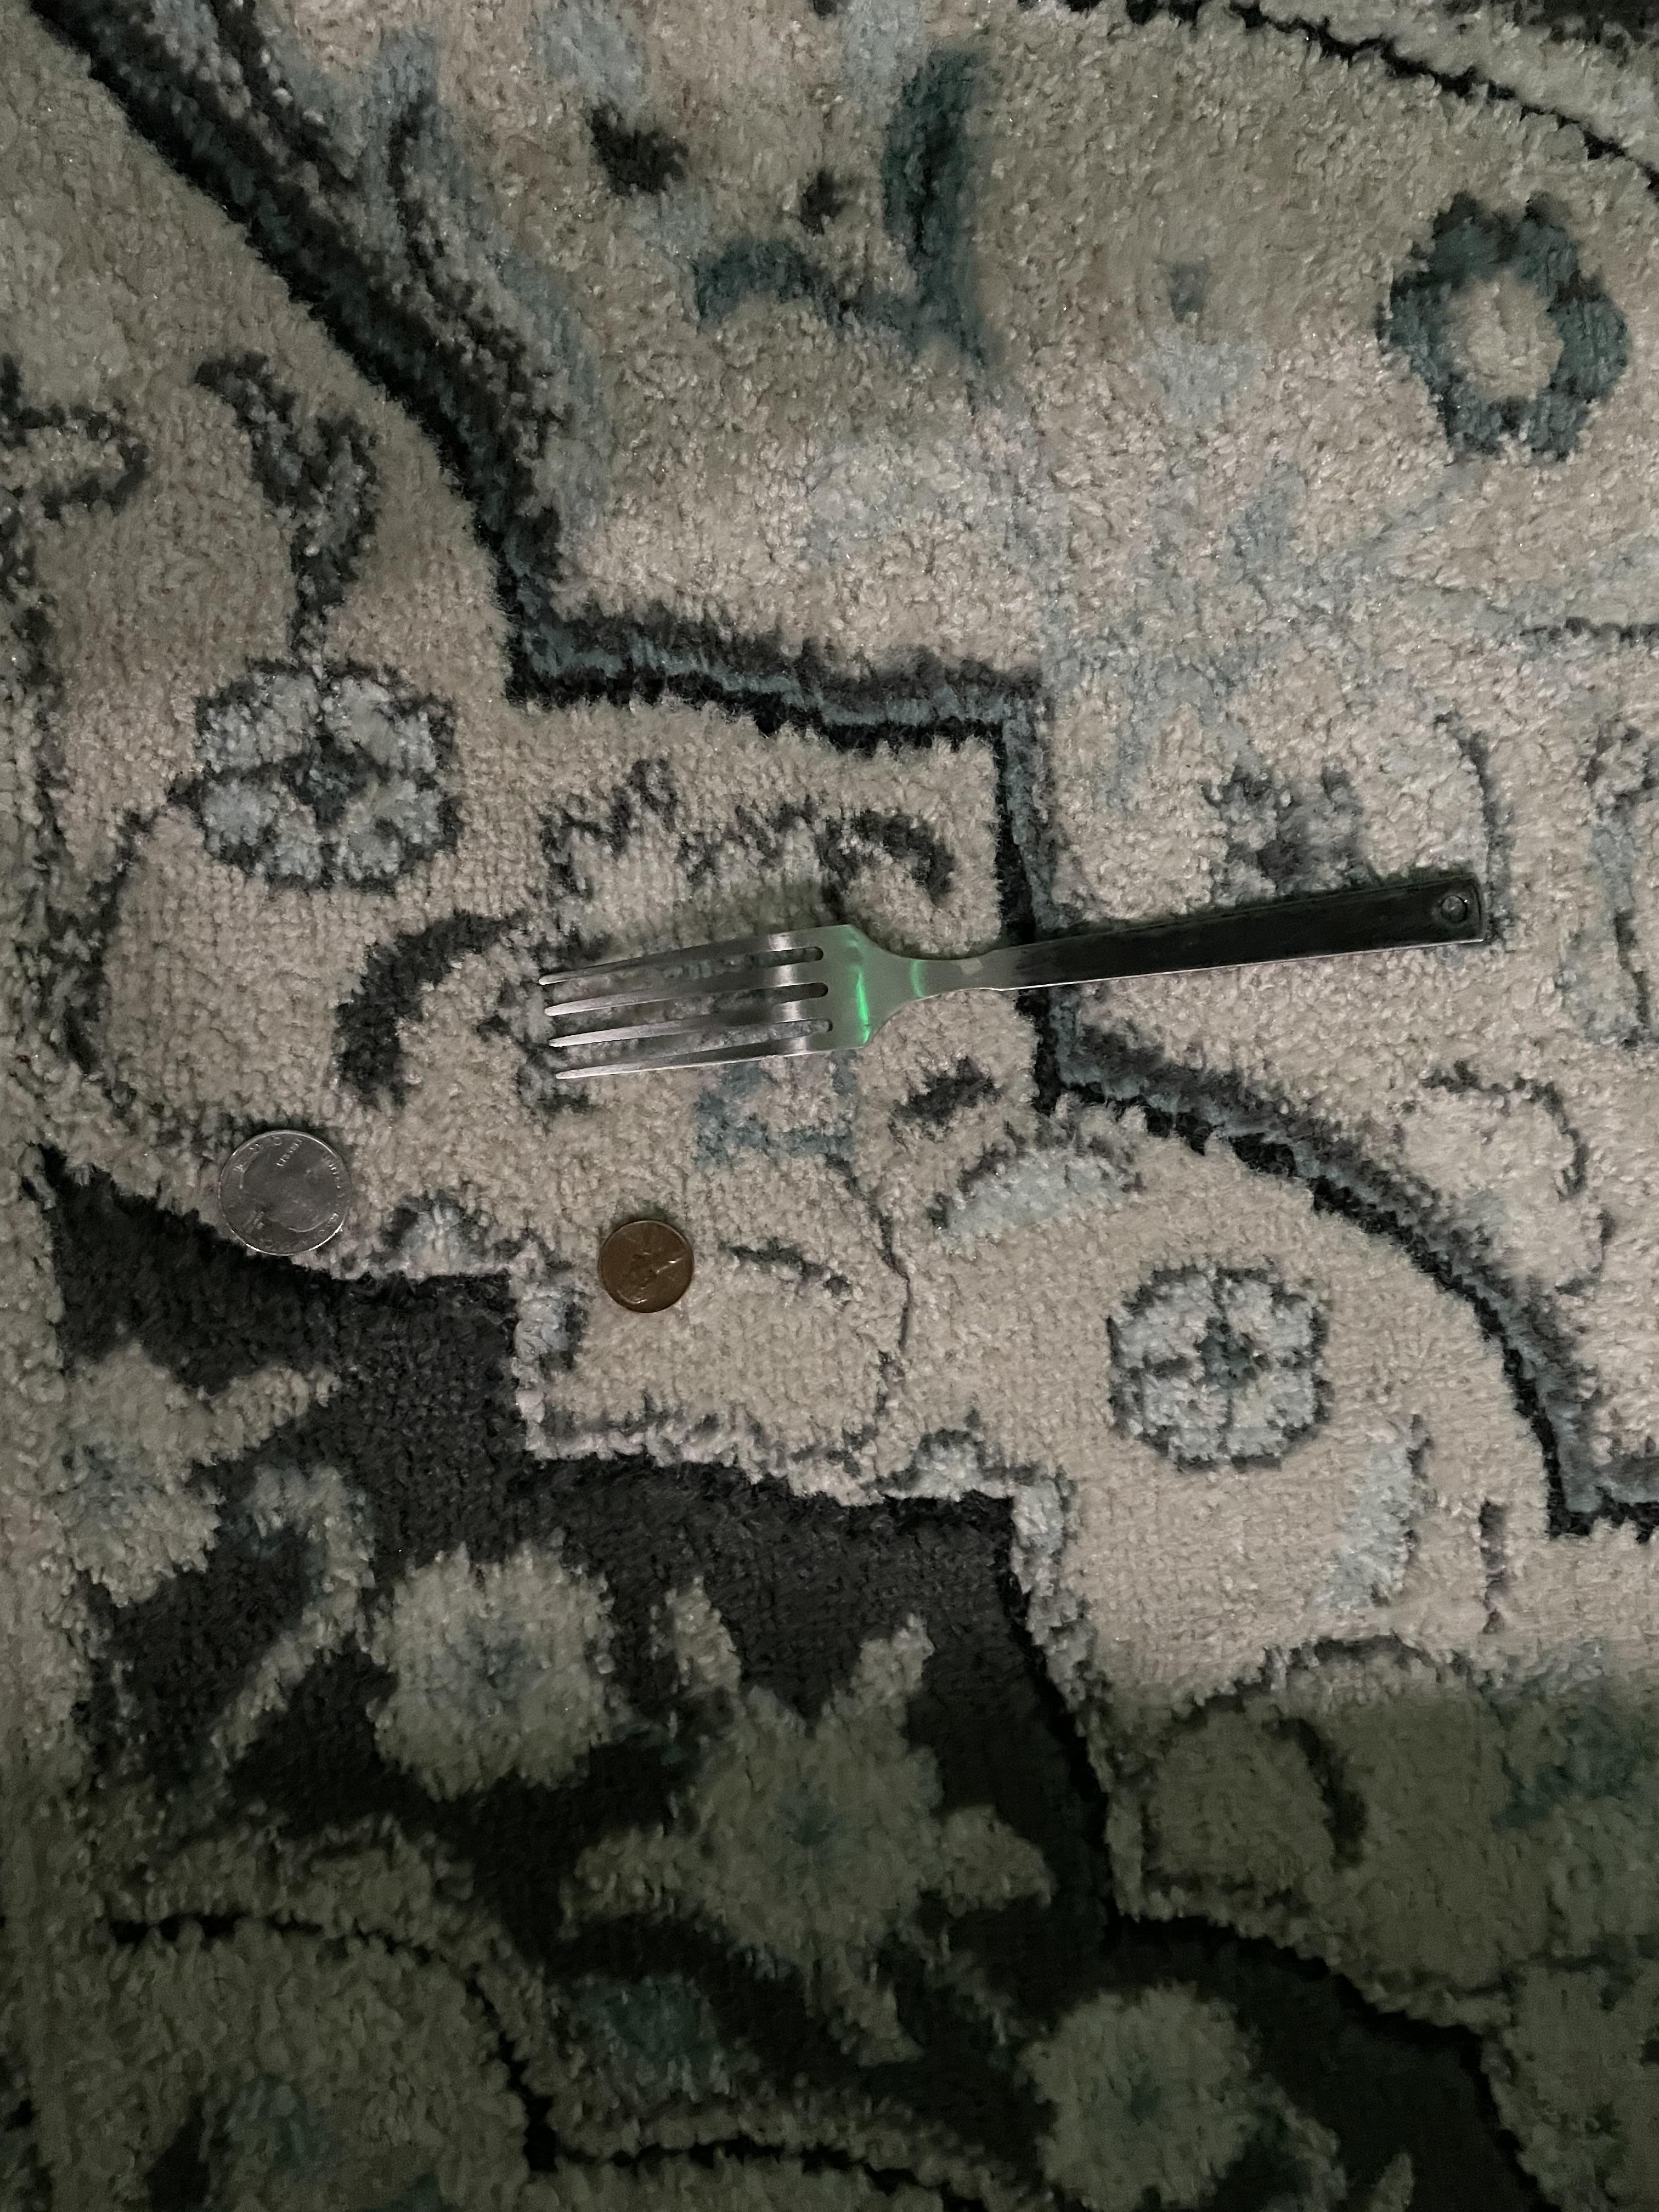Penny: (587, 1209, 713, 1320)
Quarter: (207, 1118, 362, 1264)
